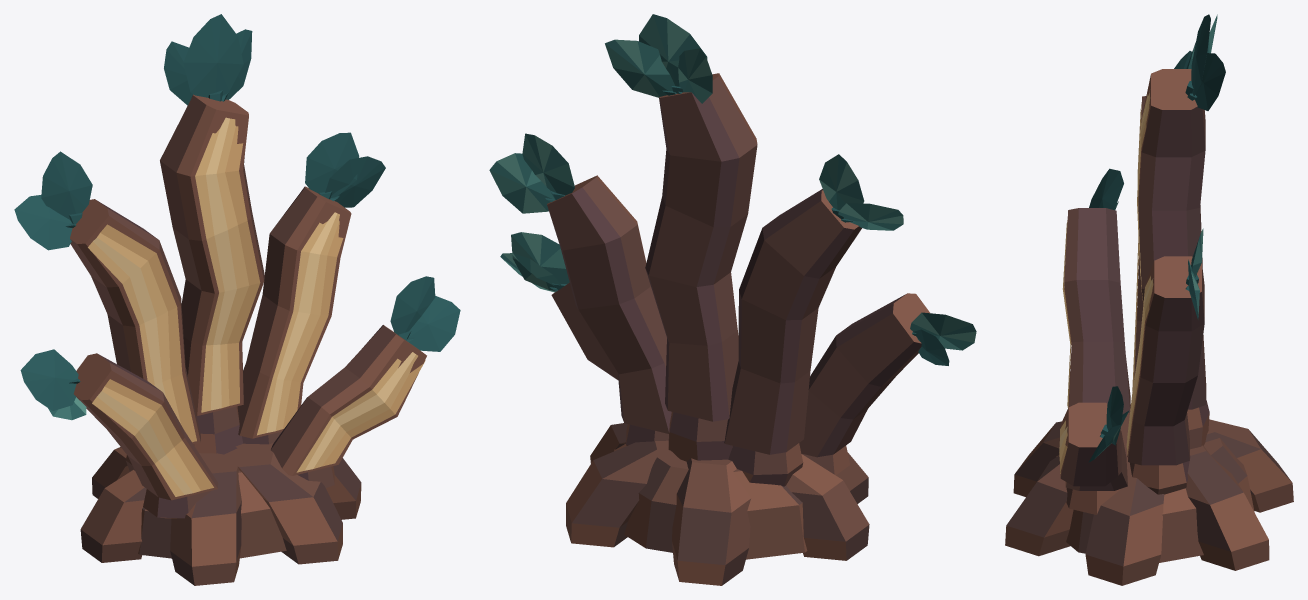
Rendered from sapwood.glb.
The picture shows the model from 3 angles, left to right: view 1: azimuth 30°, elevation 25°; view 2: azimuth 150°, elevation 25°; view 3: azimuth 270°, elevation 25°; orthographic projection. The views are drawn at different scales.
Visible parts, largest first — view 1: tree_chunk_0, TreeStump, tree_chunk_2, tree_chunk_1, tree_chunk_4, tree_chunk_3; view 2: TreeStump, tree_chunk_0, tree_chunk_1, tree_chunk_2, tree_chunk_3, tree_chunk_4; view 3: TreeStump, tree_chunk_0, tree_chunk_2, tree_chunk_3, tree_chunk_4, tree_chunk_1.
Boxes of the visible parts, <box> form: tree_chunk_0: <box>160,14,264,415</box>; TreeStump: <box>80,406,361,585</box>; tree_chunk_2: <box>237,132,385,438</box>; tree_chunk_1: <box>14,151,200,443</box>; tree_chunk_4: <box>270,276,460,475</box>; tree_chunk_3: <box>20,349,218,500</box>; TreeStump: <box>566,412,869,585</box>; tree_chunk_0: <box>605,14,757,421</box>; tree_chunk_1: <box>724,154,903,454</box>; tree_chunk_2: <box>489,133,671,433</box>; tree_chunk_3: <box>799,293,976,457</box>; tree_chunk_4: <box>500,232,618,379</box>; TreeStump: <box>1005,400,1293,585</box>; tree_chunk_0: <box>1137,14,1225,409</box>; tree_chunk_2: <box>1126,228,1204,465</box>; tree_chunk_3: <box>1062,168,1130,414</box>; tree_chunk_4: <box>1059,386,1128,490</box>; tree_chunk_1: <box>1132,42,1195,390</box>.
Bounding box in the file's own units: 1.84 × 1.93 × 0.9774.
1 material, 1 textured.
